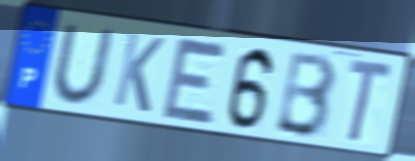6: (226, 44, 278, 132)
B: (272, 49, 340, 141)
E: (159, 33, 231, 127)
K: (110, 29, 167, 116)
T: (345, 55, 396, 146)
U: (50, 22, 117, 108)
